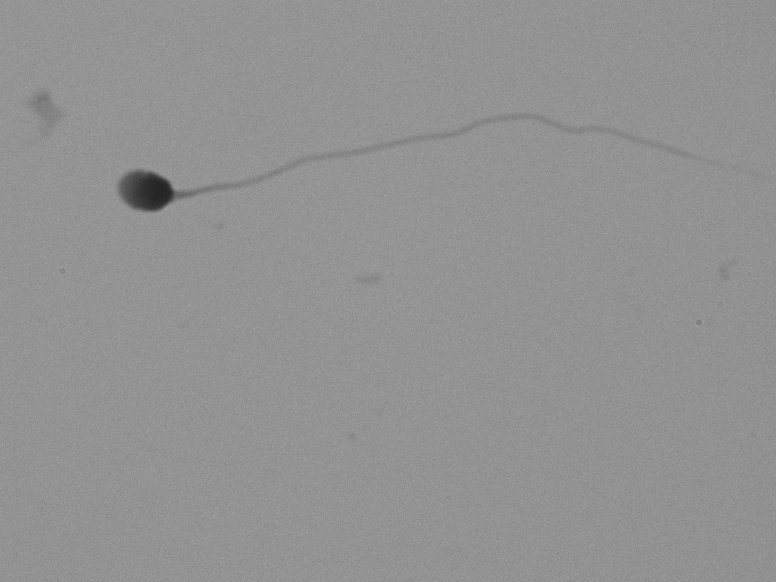Normal: (71, 50, 741, 323)
